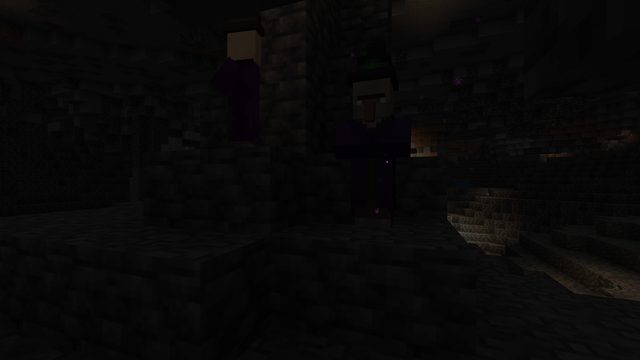araignees: (521, 177, 537, 183)
sorcieres: (346, 68, 397, 230), (220, 20, 266, 130)
